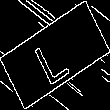L_NW: (33, 25, 77, 85)
